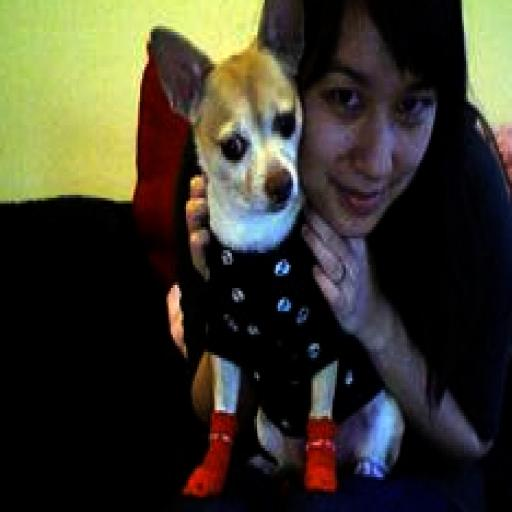dog_face: (147, 0, 304, 221)
